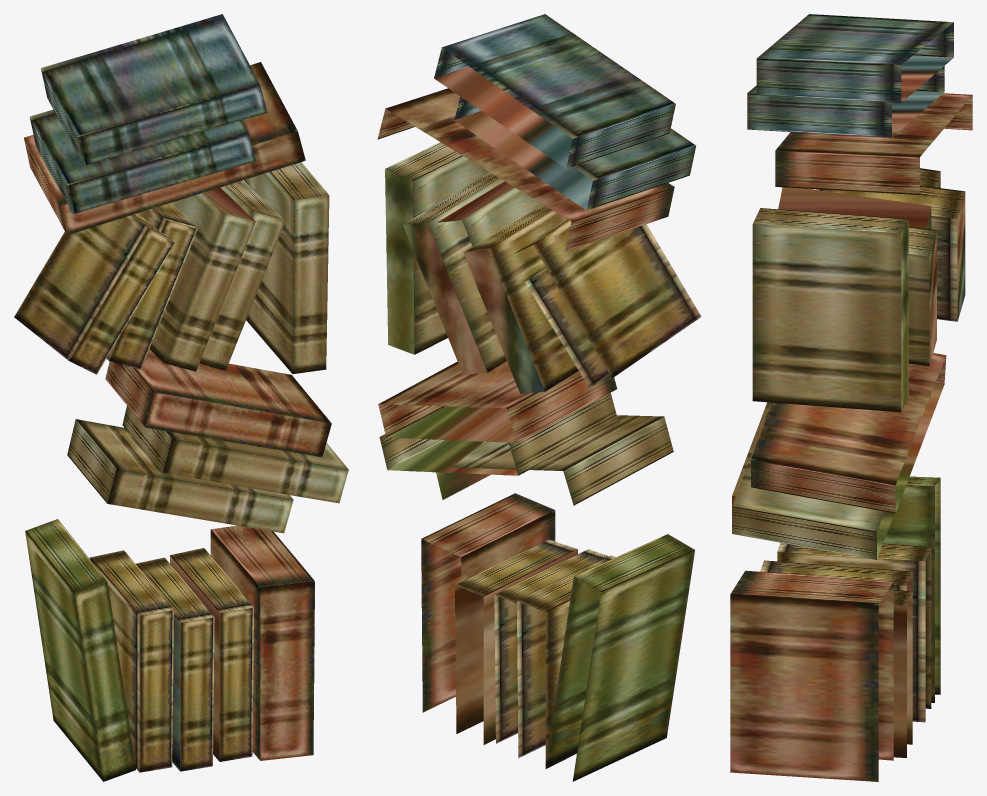
Rendered from book34_3.glb.
The picture shows the model from 3 angles, left to right: view 1: azimuth 30°, elevation 25°; view 2: azimuth 150°, elevation 25°; view 3: azimuth 270°, elevation 25°; orthographic projection. The views are drawn at different scales.
Visible parts, largest first — view 1: book34_3; view 2: book34_3; view 3: book34_3.
Boxes of the visible parts, x1,y1,x2,y2 form: book34_3: [14, 14, 348, 781]; book34_3: [377, 14, 701, 781]; book34_3: [730, 14, 972, 781].
Size of the model in its own units: 178 by 416 by 129.
1 material, 1 textured.
